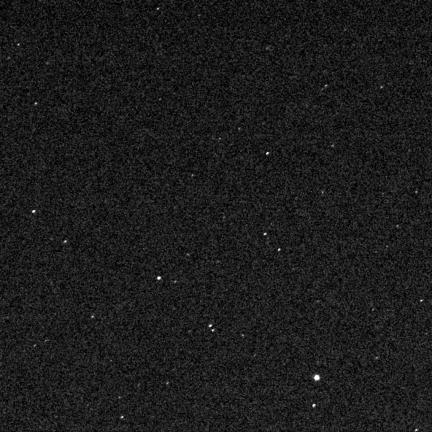blob: (314, 375, 320, 380), (157, 276, 161, 280), (266, 152, 270, 156), (33, 210, 35, 213)
